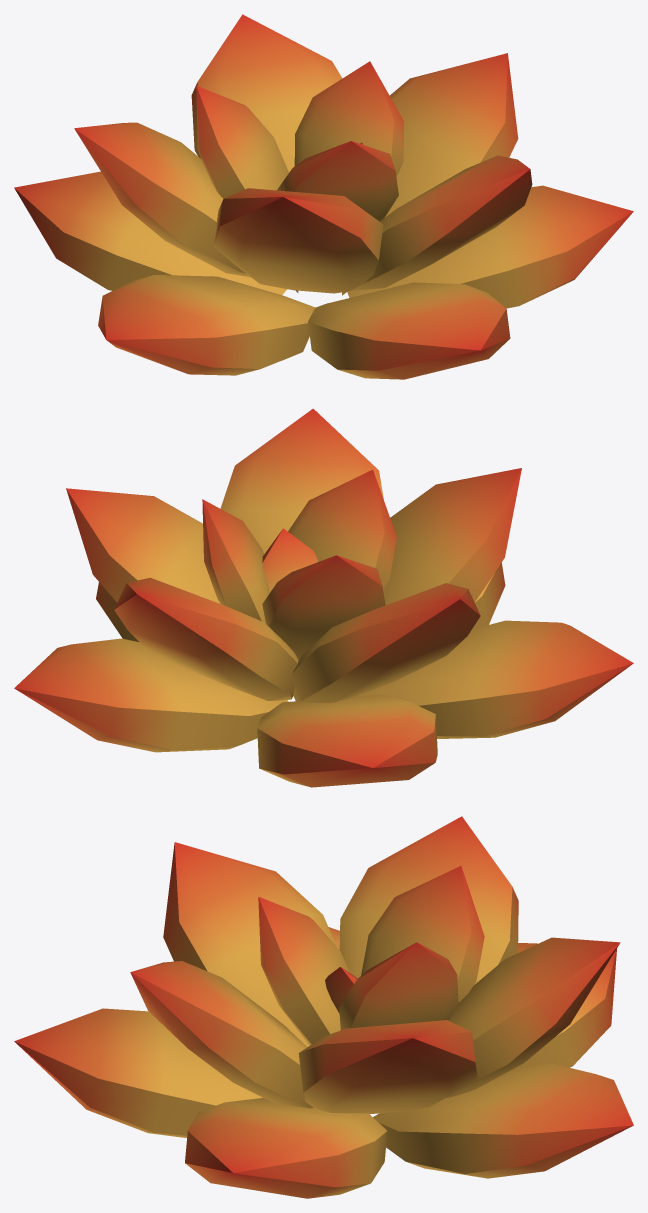
3 views of the same model, one above another, from view 1: azimuth 30°, elevation 25°; view 2: azimuth 150°, elevation 25°; view 3: azimuth 270°, elevation 25° (orthographic). The views are drawn at different scales.
Visible parts, largest first — view 1: LOD 0_16967760880170184947_4f521bcaeda9b9647b799715f43ad4b9; view 2: LOD 0_16967760880170184947_4f521bcaeda9b9647b799715f43ad4b9; view 3: LOD 0_16967760880170184947_4f521bcaeda9b9647b799715f43ad4b9.
Part boxes in pixels (box(x1,y1,x2,y2)): LOD 0_16967760880170184947_4f521bcaeda9b9647b799715f43ad4b9: box(14, 14, 633, 379); LOD 0_16967760880170184947_4f521bcaeda9b9647b799715f43ad4b9: box(14, 408, 633, 787); LOD 0_16967760880170184947_4f521bcaeda9b9647b799715f43ad4b9: box(14, 816, 633, 1198).
Size of the model in its own units: 0.8955 by 0.3443 by 0.8664.
